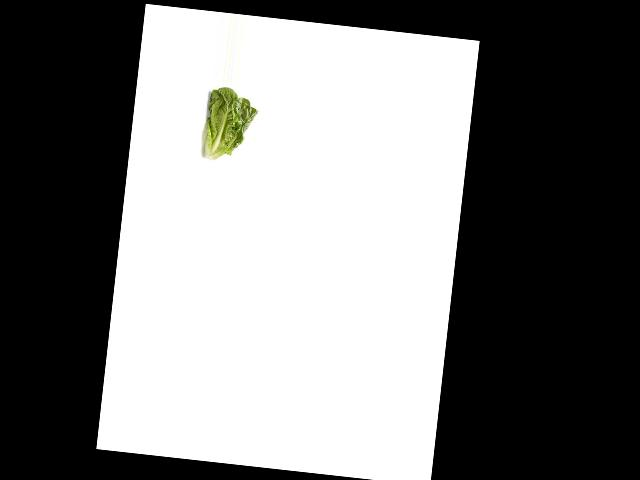lettuce: (190, 84, 260, 167)
